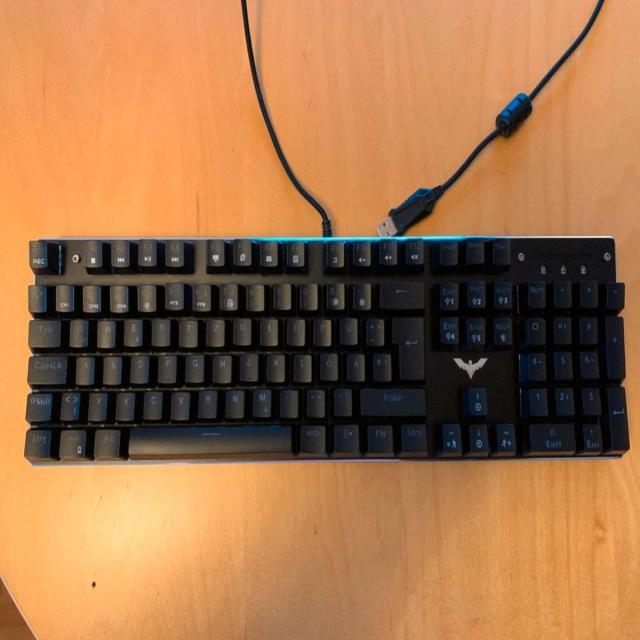0: (298, 281, 318, 310)
1: (53, 281, 74, 310)
2: (81, 282, 101, 312)
3: (109, 282, 129, 312)
4: (136, 281, 156, 310)
5: (164, 279, 184, 309)
6: (191, 281, 211, 311)
7: (218, 280, 238, 309)
8: (245, 281, 264, 310)
9: (271, 280, 291, 309)
a: (74, 353, 94, 384)
accent: (350, 279, 370, 309)
ae: (344, 350, 364, 380)
alt-left: (92, 426, 120, 456)
altgr-right: (298, 423, 325, 452)
b: (196, 386, 217, 417)
c: (142, 388, 162, 418)
caret: (27, 282, 46, 311)
comma: (278, 386, 298, 416)
d: (129, 351, 149, 382)
del: (378, 279, 423, 309)
e: (123, 316, 142, 345)
enter: (391, 314, 424, 380)
f: (156, 351, 176, 381)
g: (184, 351, 203, 381)
h: (211, 352, 232, 382)
hash: (371, 351, 390, 380)
i: (258, 315, 278, 344)
j: (238, 350, 257, 379)
k: (265, 350, 285, 381)
keyboard: (16, 232, 634, 473)
l: (292, 351, 311, 381)
less: (59, 389, 80, 420)
m: (251, 386, 271, 415)
minus: (331, 386, 351, 415)
n: (224, 386, 244, 417)
o: (285, 316, 305, 345)
oe: (319, 351, 338, 380)
p: (312, 316, 331, 344)
plus: (364, 315, 383, 345)
point: (305, 386, 324, 415)
q: (68, 316, 88, 345)
r: (150, 316, 170, 345)
s: (102, 353, 121, 383)
shift-left: (24, 390, 52, 420)
shift-lock: (26, 352, 67, 384)
shift-right: (359, 385, 425, 415)
space: (125, 422, 292, 455)
ss: (325, 280, 345, 309)
strg-left: (23, 427, 52, 457)
strg-right: (399, 422, 427, 451)
t: (178, 316, 197, 345)
tab: (27, 317, 60, 346)
u: (232, 315, 251, 344)
ue: (338, 315, 357, 344)
v: (169, 389, 189, 419)
w: (96, 317, 115, 347)
x: (114, 389, 134, 419)
y: (87, 389, 107, 419)
z: (205, 316, 224, 345)
